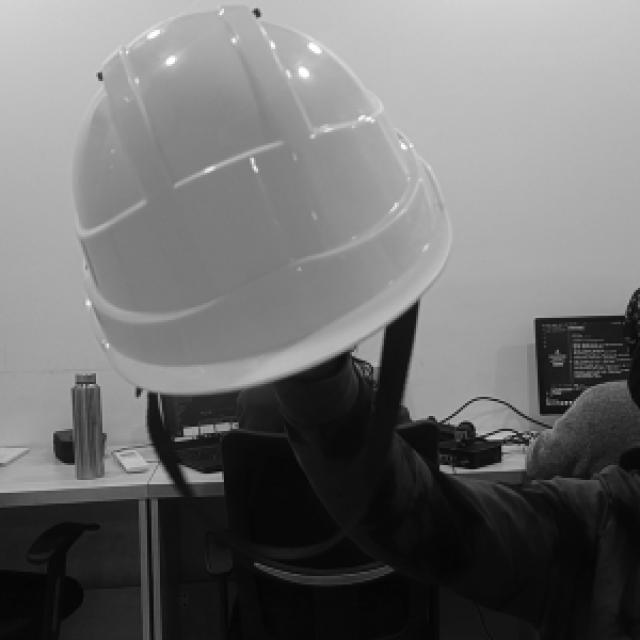safety_helmet: (73, 7, 452, 396)
